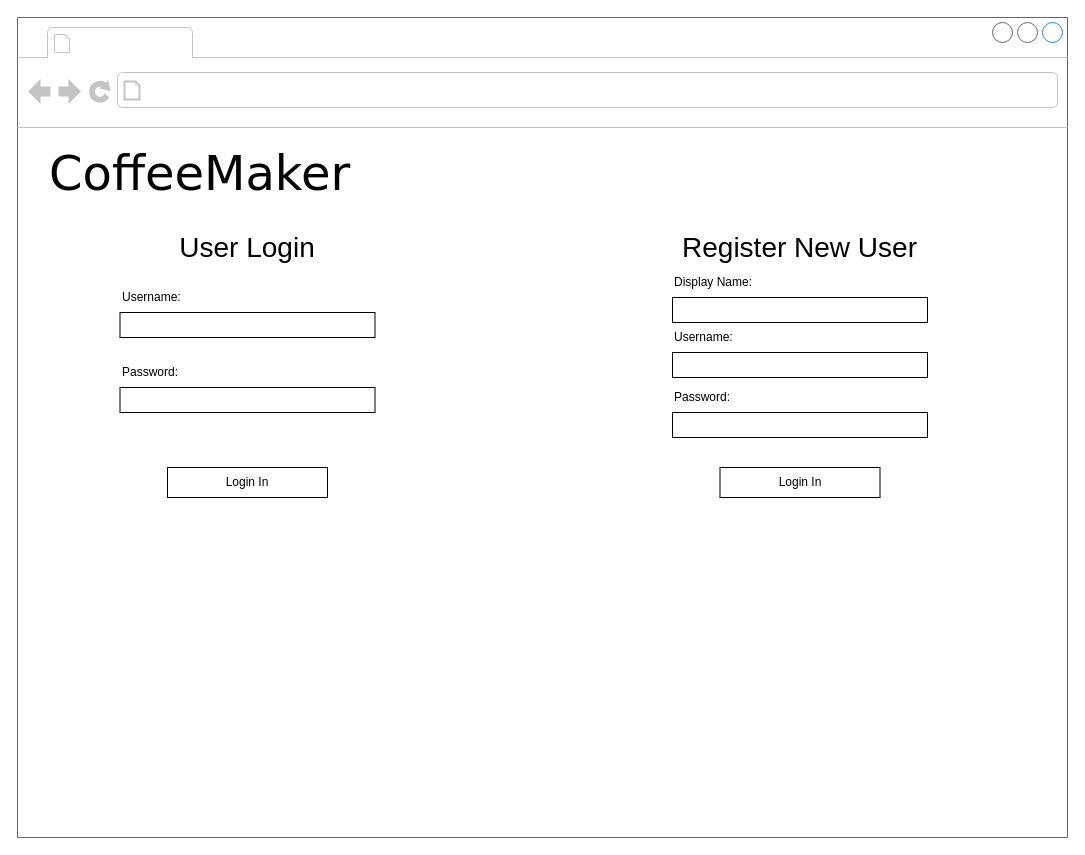
Some shapes in this 1085 by 855 pixel diagram are drawn without their labels. Each missing label, with the box of its shape:
https://www.coffeemaker.com: (146, 76, 398, 104)
Login: (76, 28, 188, 56)
